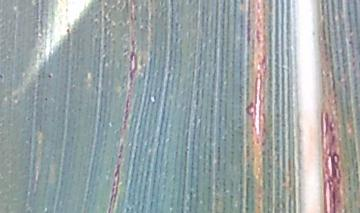tarspot: (46, 71, 53, 80), (43, 95, 49, 101), (65, 28, 71, 33), (1, 72, 4, 79)
